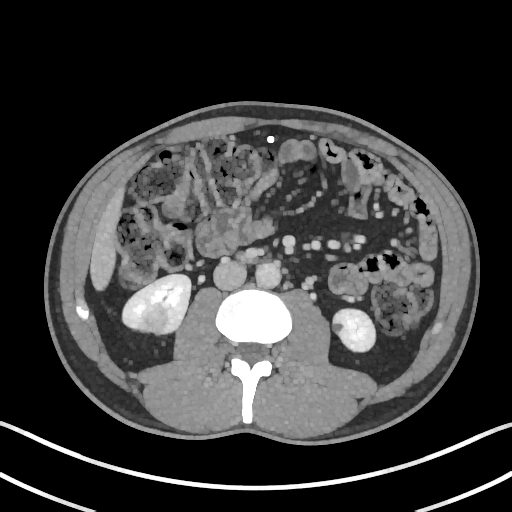Lesion: (141, 301, 170, 336)
